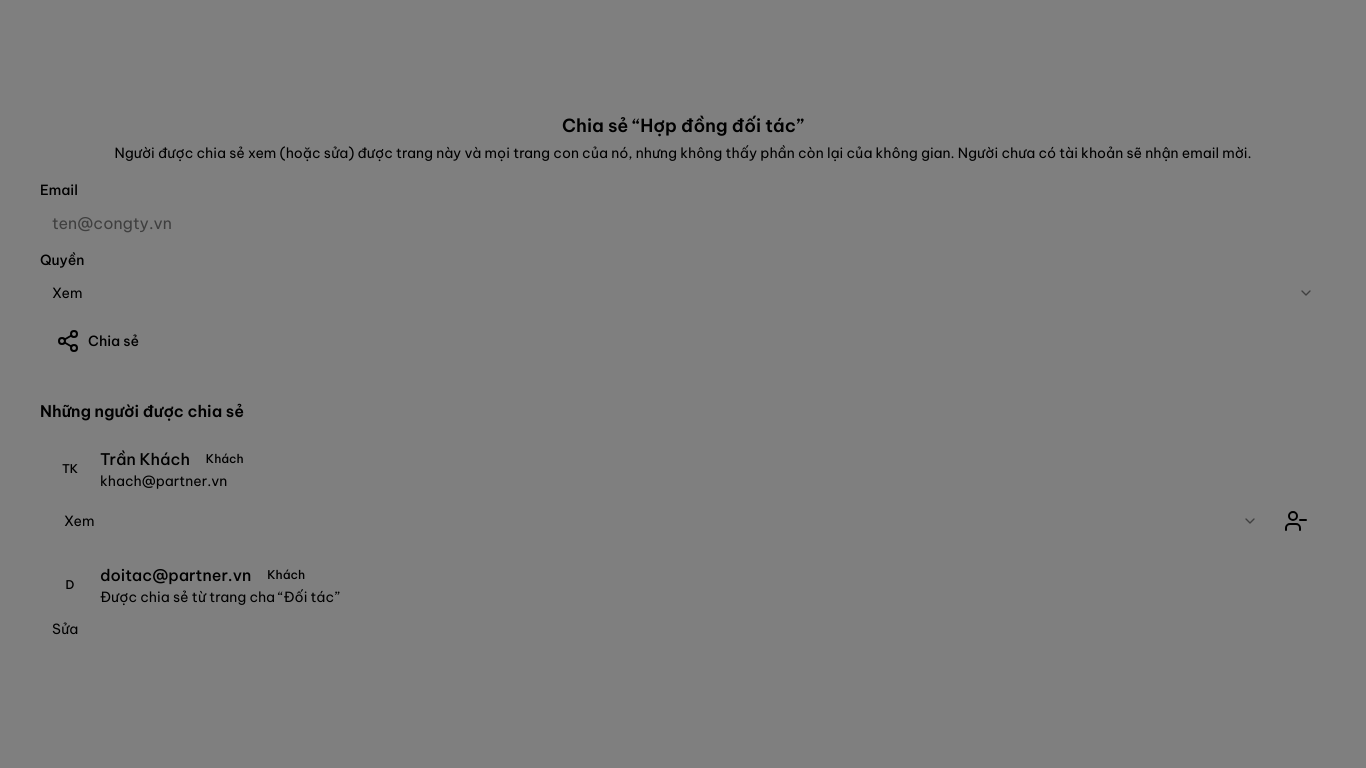
Test: SharePageDialogBody › removes a direct share after confirmation
The width and height of the screenshot is (1366, 768).
Click the button named "Bỏ chia sẻ với Trần Khách": (1296, 521) [1278,503,1314,539]
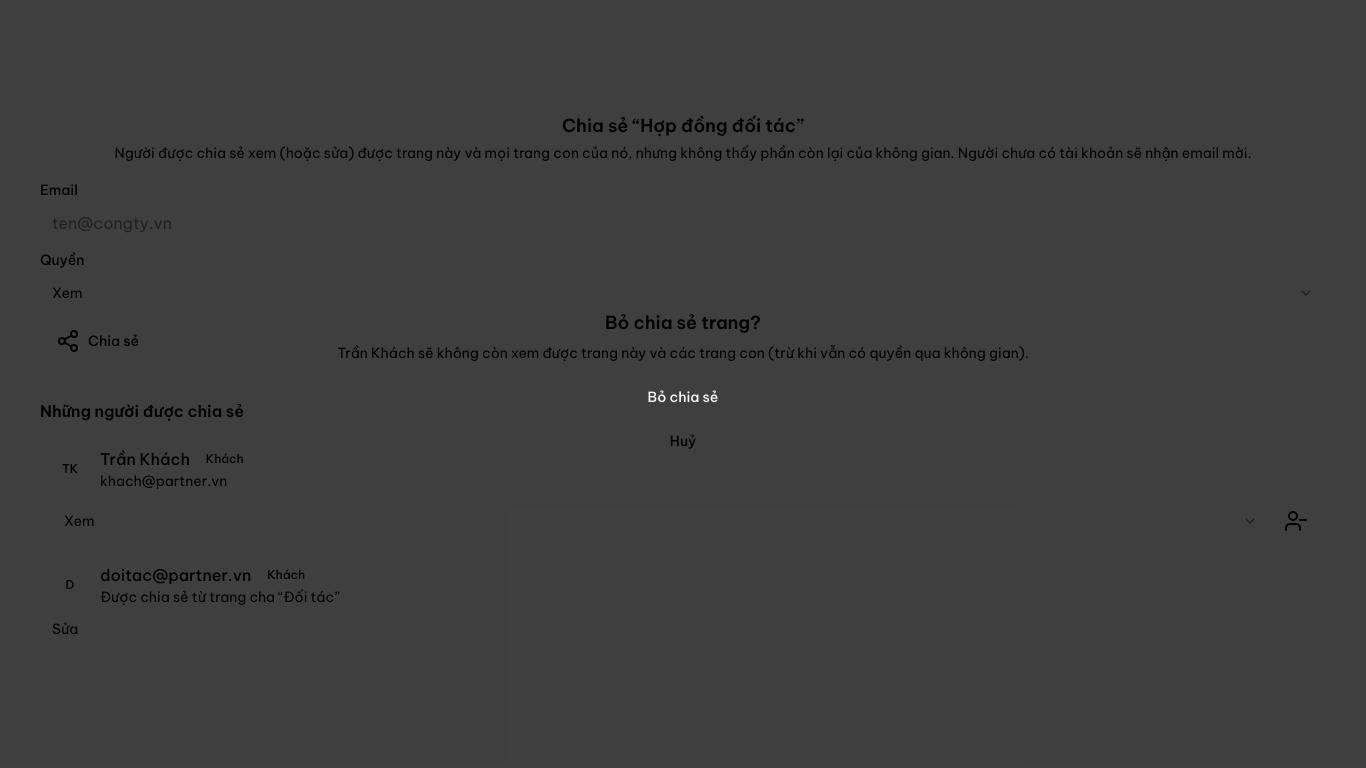
Click the button "Bỏ chia sẻ": (683, 397) [40,379,1326,415]
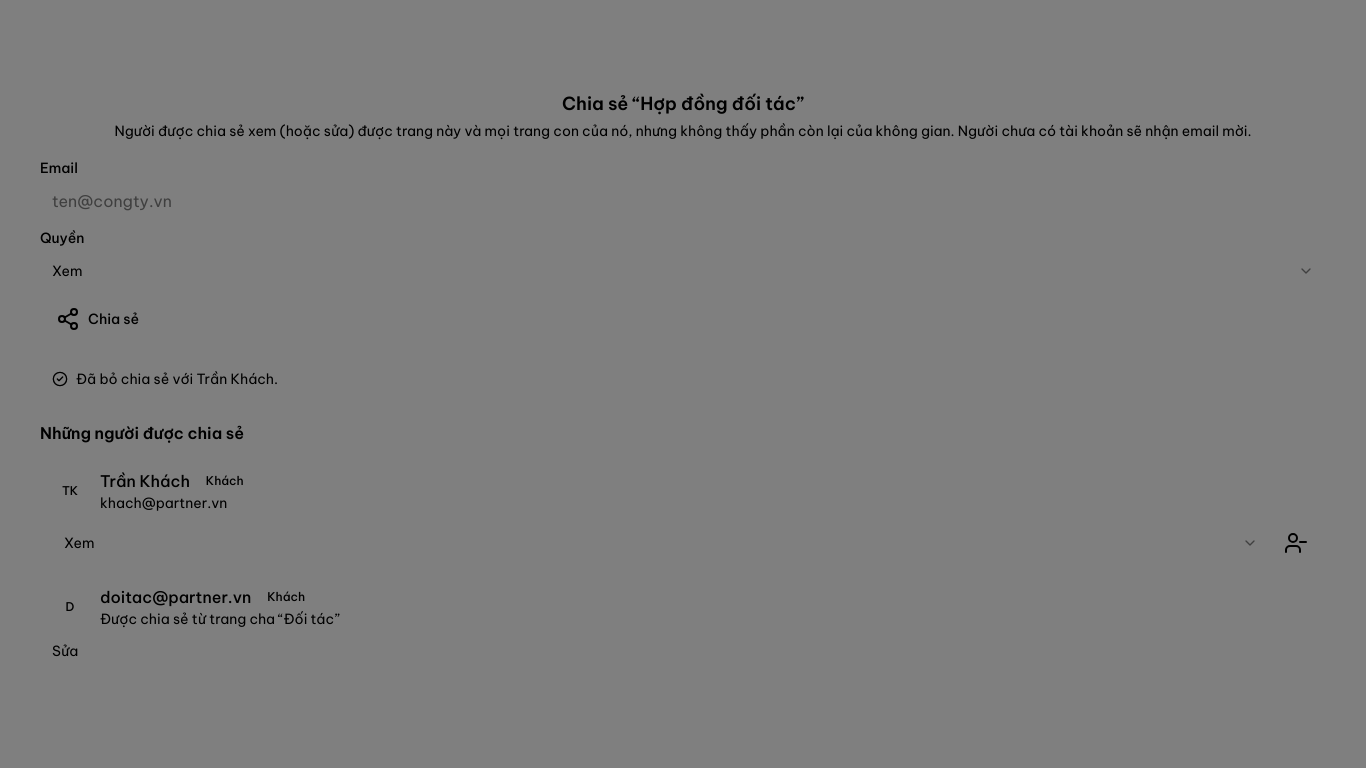
Check: the text "Đã bỏ chia sẻ với Trần Khách." is shown, box [76,369,278,389]
